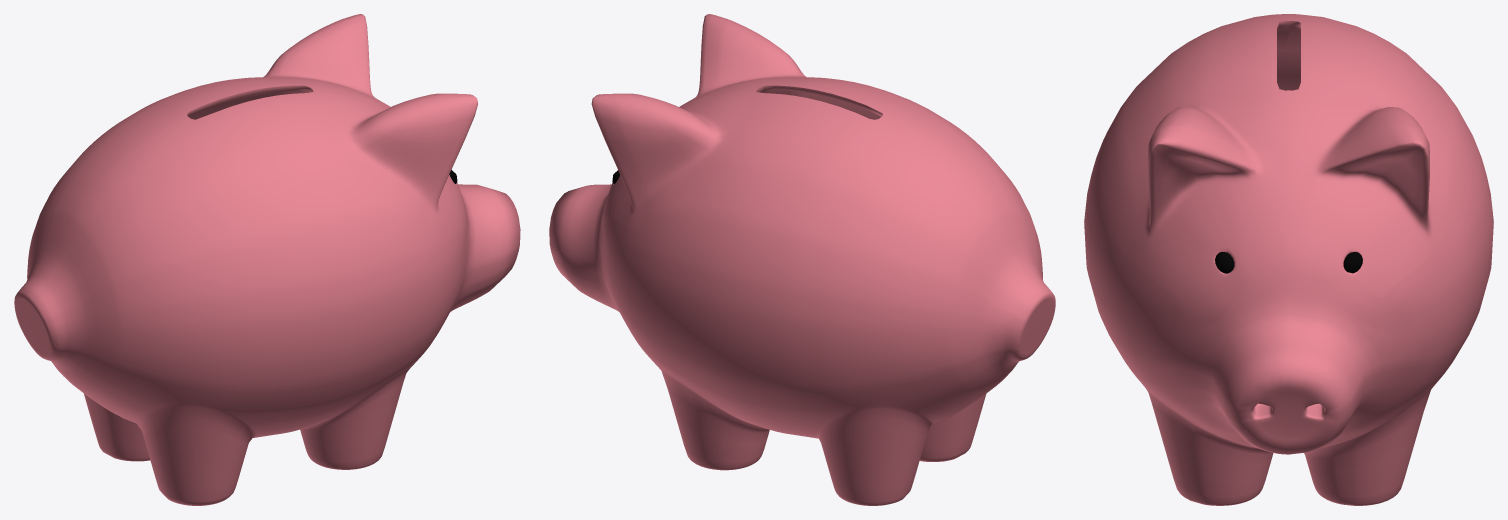
The model's file is piggyPivot.fbx.
3 views of the same model, side by side, from view 1: azimuth 30°, elevation 25°; view 2: azimuth 150°, elevation 25°; view 3: azimuth 270°, elevation 25° (orthographic). The views are drawn at different scales.
Visible parts, largest first — view 1: Pig_body; view 2: Pig_body; view 3: Pig_body.
Boxes of the visible parts, x1,y1,x2,y2 form: Pig_body: (14,14,520,505); Pig_body: (549,14,1055,505); Pig_body: (1084,14,1493,505).
Bounding box in the file's own units: 546 × 387 × 352.
